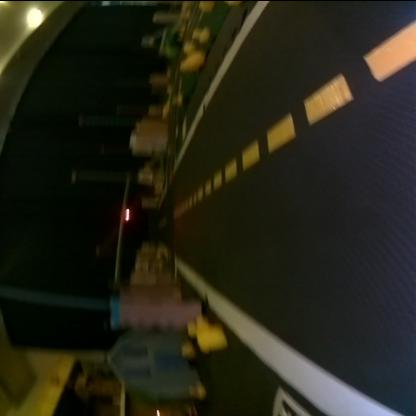Duckie: (196, 326, 224, 350), (178, 48, 204, 69), (191, 26, 209, 43), (179, 341, 193, 356)
QR code: (272, 386, 306, 414)
